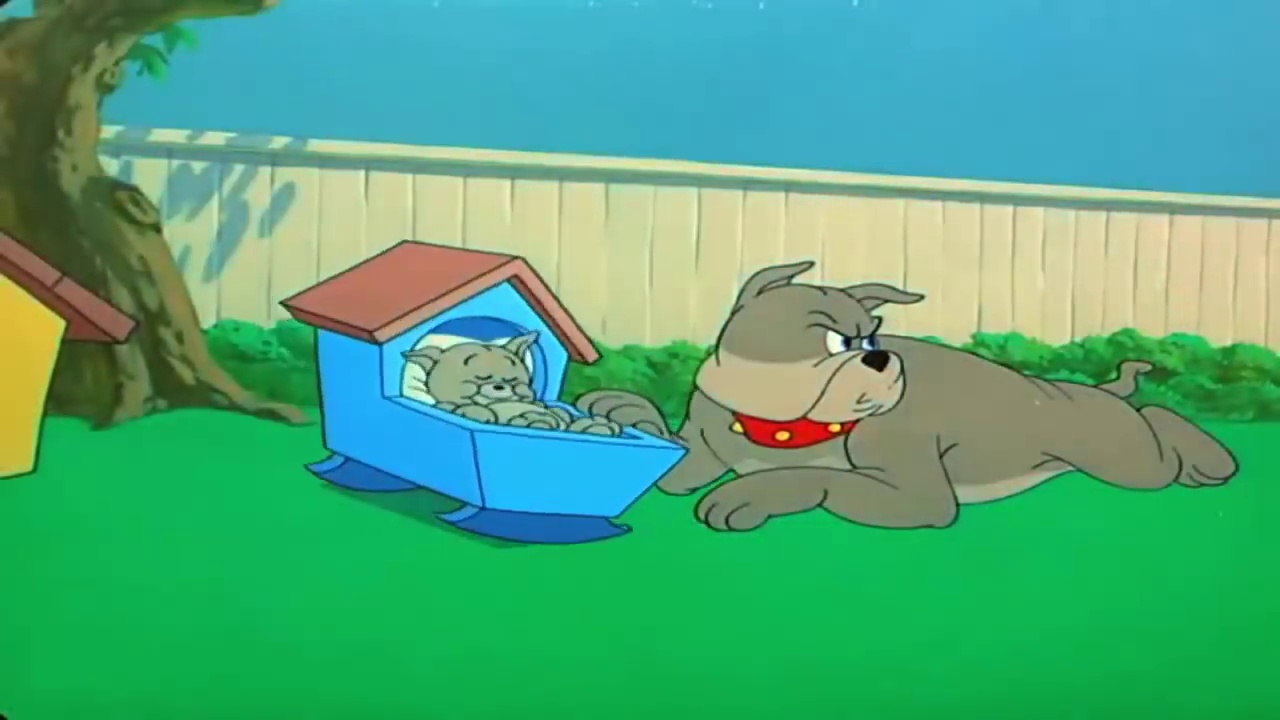spike: (689, 256, 932, 452)
